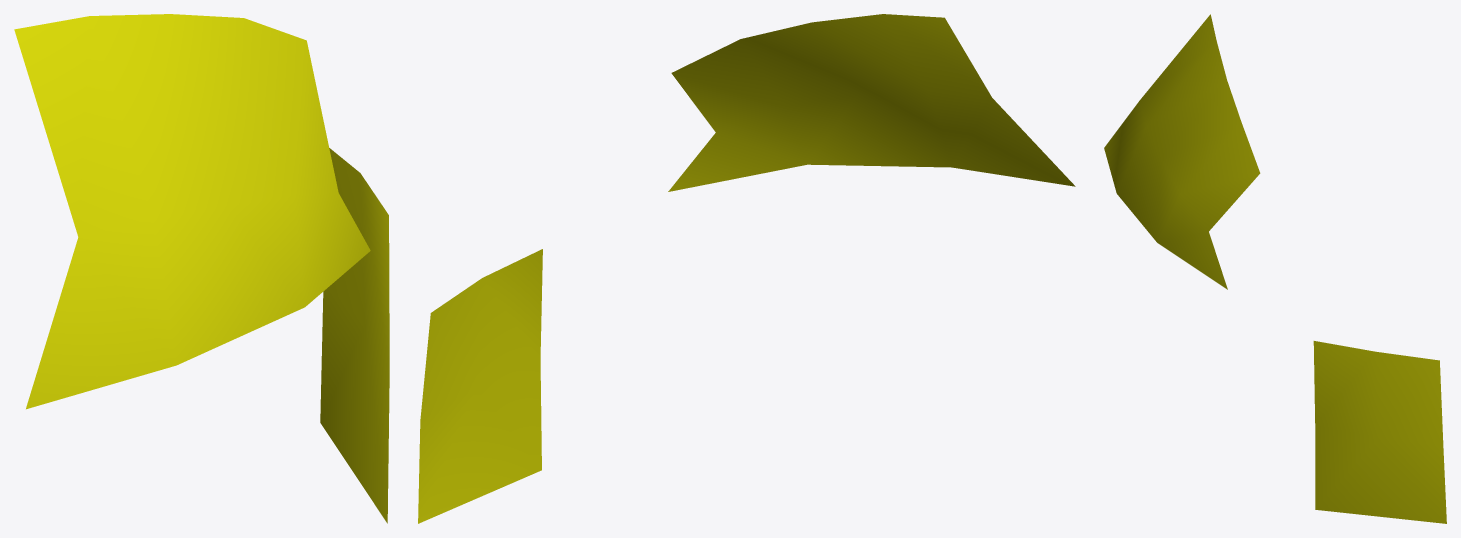
File: Forehead2_12.glb
The picture shows the model from 3 angles, left to right: view 1: azimuth 30°, elevation 25°; view 2: azimuth 150°, elevation 25°; view 3: azimuth 270°, elevation 25°; orthographic projection. The views are drawn at different scales.
Size of the model in its own units: 26.3 by 28.04 by 23.5.
